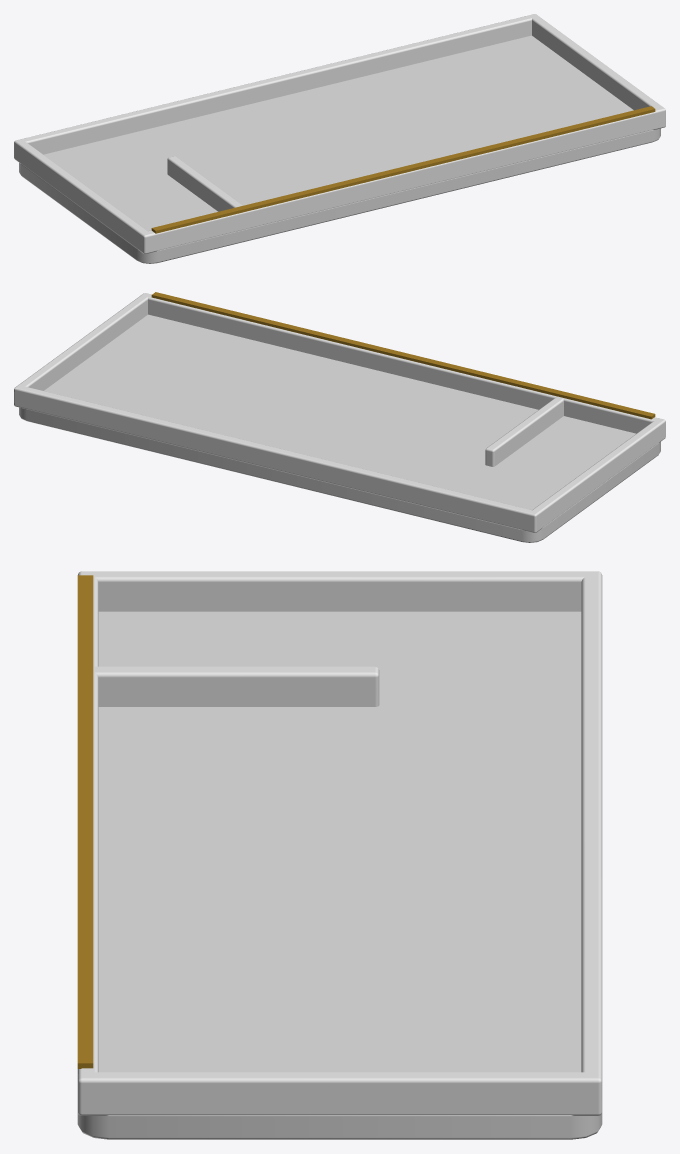
Rendered from WorkerHand_Tray.fbx.
The picture shows the model from 3 angles, top to bottom: view 1: azimuth 30°, elevation 25°; view 2: azimuth 150°, elevation 25°; view 3: azimuth 270°, elevation 25°; orthographic projection. The views are drawn at different scales.
Parts seen in each view (by area): view 1: Hand_TrayBase, Hand_TrayLip, Hand_TrayStripe; view 2: Hand_TrayBase, Hand_TrayLip, Hand_TrayStripe; view 3: Hand_TrayBase, Hand_TrayLip, Hand_TrayStripe.
Part boxes in pixels (left/top/right/bottom): Hand_TrayBase: left=19, top=35, right=660, bottom=263; Hand_TrayLip: left=14, top=14, right=665, bottom=253; Hand_TrayStripe: left=151, top=106, right=655, bottom=233; Hand_TrayBase: left=19, top=314, right=660, bottom=542; Hand_TrayLip: left=14, top=293, right=665, bottom=532; Hand_TrayStripe: left=151, top=292, right=655, bottom=419; Hand_TrayBase: left=77, top=611, right=602, bottom=1139; Hand_TrayLip: left=77, top=571, right=602, bottom=1115; Hand_TrayStripe: left=77, top=575, right=93, bottom=1068.
Size of the model in its own units: 0.23 by 0.0141 by 0.1.
